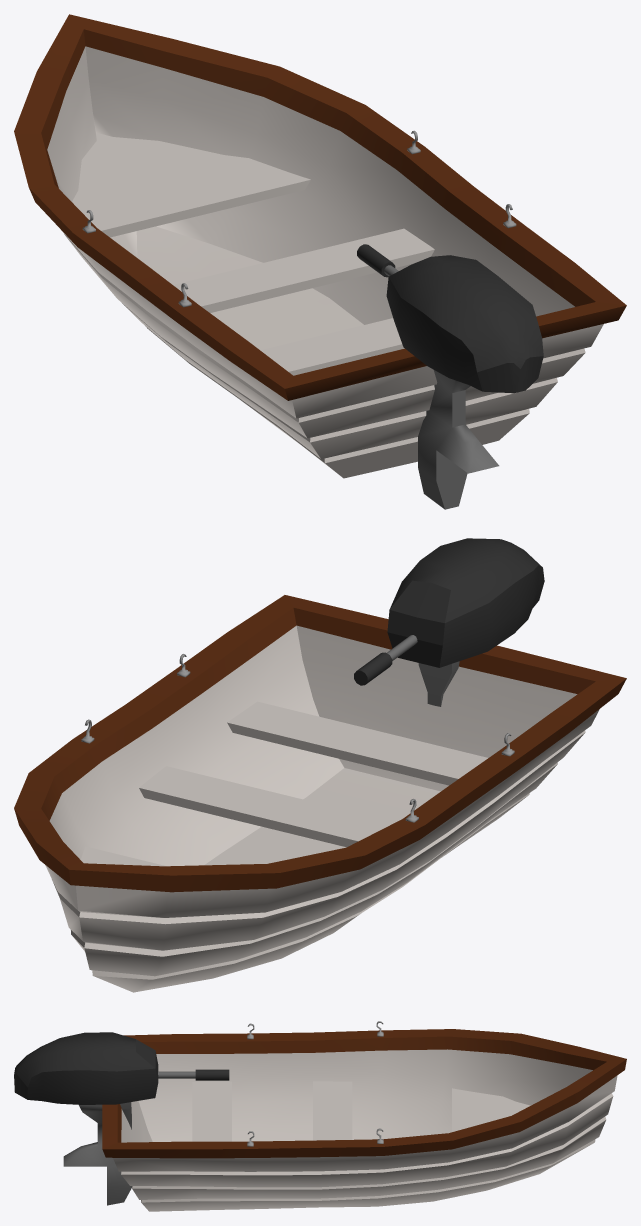
Rendered from SmallBoat.fbx.
The picture shows the model from 3 angles, top to bottom: view 1: azimuth 30°, elevation 25°; view 2: azimuth 150°, elevation 25°; view 3: azimuth 270°, elevation 25°; orthographic projection. The views are drawn at different scales.
Visible parts, largest first — view 1: Cylinder.291; view 2: Cylinder.291; view 3: Cylinder.291.
Part boxes in pixels (<box>): Cylinder.291: <box>14,14,626,509</box>; Cylinder.291: <box>14,538,626,992</box>; Cylinder.291: <box>14,1021,626,1211</box>.
Bounding box in the file's own units: 174 × 113 × 386.
